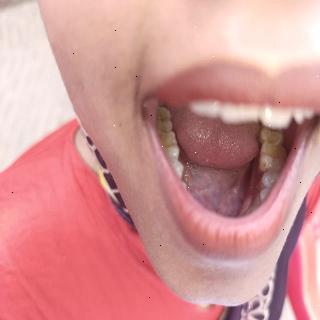stains: (260, 158, 272, 172), (256, 194, 266, 205), (259, 176, 267, 188)
